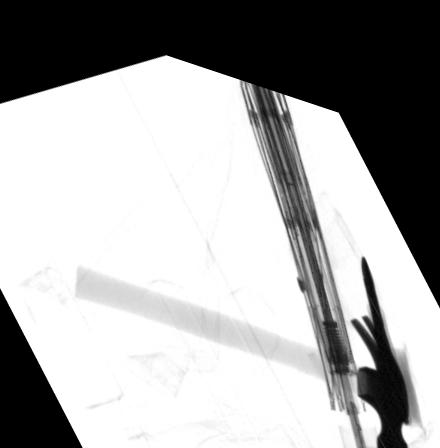Hammer: (73, 258, 410, 437)
Pliers: (359, 229, 410, 399)
